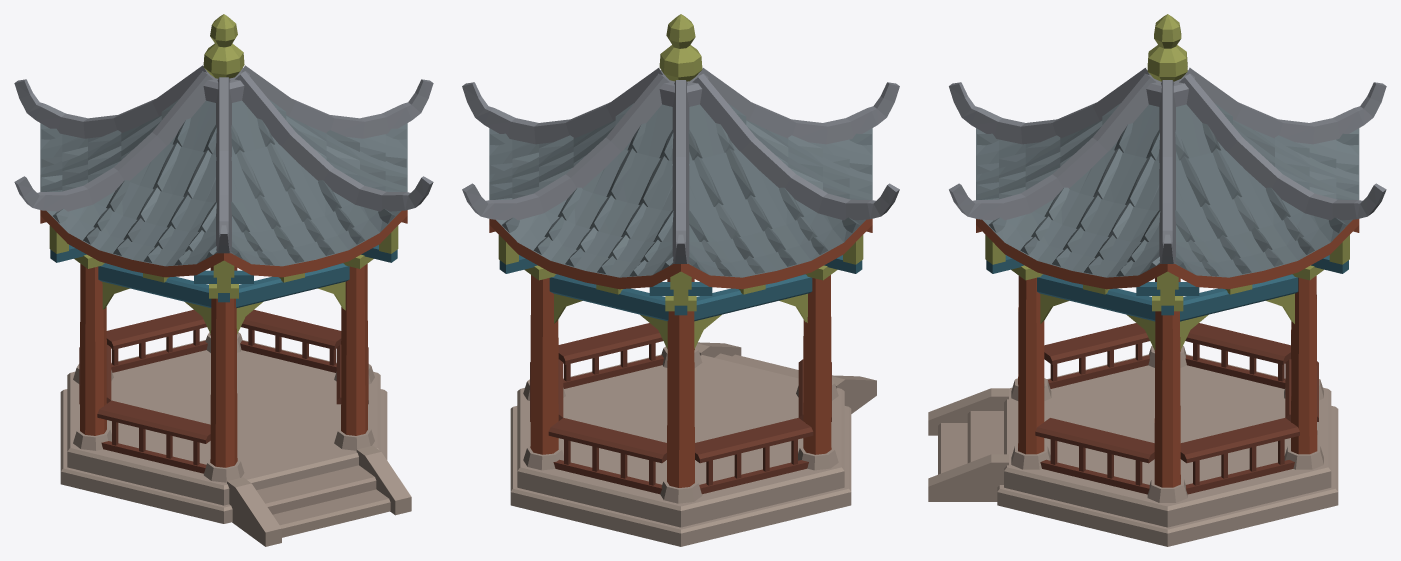
File: chinese-hexagonal-pavilion-09d04e.glb
3 renders of one model, left to right at view 1: azimuth 30°, elevation 25°; view 2: azimuth 150°, elevation 25°; view 3: azimuth 270°, elevation 25°, orthographic. The views are drawn at different scales.
Parts seen in each view (by area): view 1: pavilion; view 2: pavilion; view 3: pavilion.
Part boxes in pixels (left/top/right/bottom): pavilion: left=14, top=14, right=433, bottom=546; pavilion: left=462, top=14, right=899, bottom=546; pavilion: left=928, top=14, right=1386, bottom=546.
Size of the model in its own units: 5.09 by 5.05 by 4.66.
